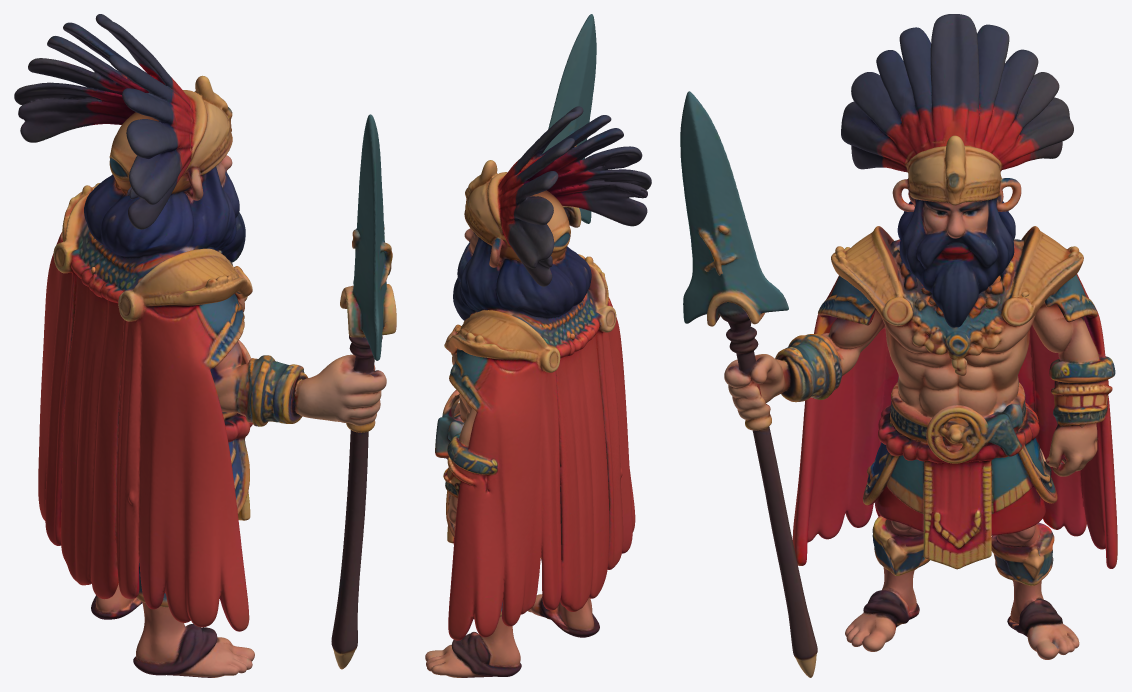
File: commander 2.glb
The picture shows the model from 3 angles, left to right: view 1: azimuth 30°, elevation 25°; view 2: azimuth 150°, elevation 25°; view 3: azimuth 270°, elevation 25°; orthographic projection. The views are drawn at different scales.
Visible parts, largest first — view 1: tripo_node_704d377a-6754-4d3a-99a0-3d7b6572c33b; view 2: tripo_node_704d377a-6754-4d3a-99a0-3d7b6572c33b; view 3: tripo_node_704d377a-6754-4d3a-99a0-3d7b6572c33b.
Part boxes in pixels (left/top/right/bottom): tripo_node_704d377a-6754-4d3a-99a0-3d7b6572c33b: left=14, top=14, right=396, bottom=677; tripo_node_704d377a-6754-4d3a-99a0-3d7b6572c33b: left=425, top=14, right=651, bottom=677; tripo_node_704d377a-6754-4d3a-99a0-3d7b6572c33b: left=680, top=14, right=1117, bottom=677.
Size of the model in its own units: 0.3372 by 1 by 0.6677.
1 material, 1 textured.
